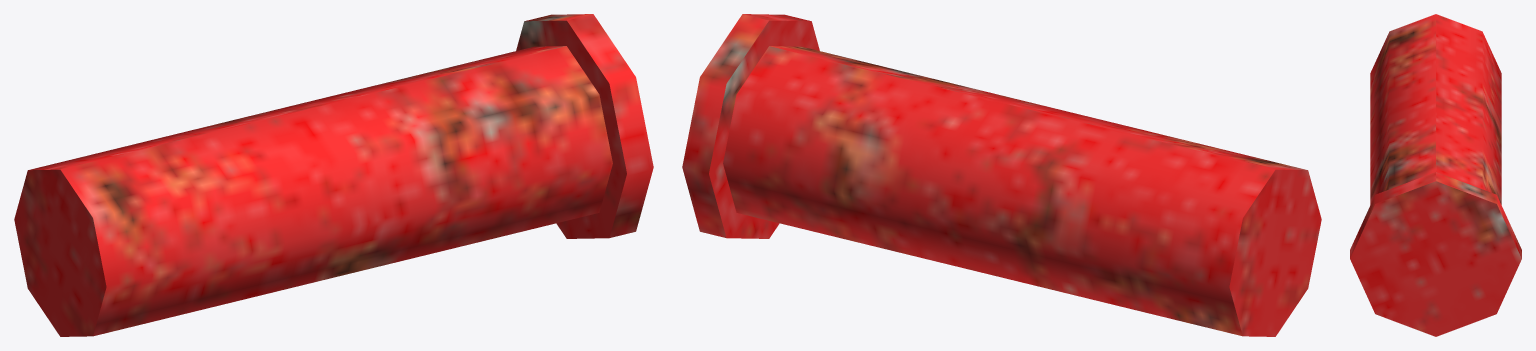
File: SM_PROP_PIPE_METAL_08.fbx
The picture shows the model from 3 angles, left to right: view 1: azimuth 30°, elevation 25°; view 2: azimuth 150°, elevation 25°; view 3: azimuth 270°, elevation 25°; orthographic projection. The views are drawn at different scales.
Parts seen in each view (by area): view 1: SM_PROP_PIPE_METAL_08; view 2: SM_PROP_PIPE_METAL_08; view 3: SM_PROP_PIPE_METAL_08.
Boxes of the visible parts, <box> form: SM_PROP_PIPE_METAL_08: <box>14,14,653,336</box>; SM_PROP_PIPE_METAL_08: <box>682,14,1321,336</box>; SM_PROP_PIPE_METAL_08: <box>1350,14,1521,336</box>.
Bounding box in the file's own units: 1 × 0.3917 × 0.3917.
